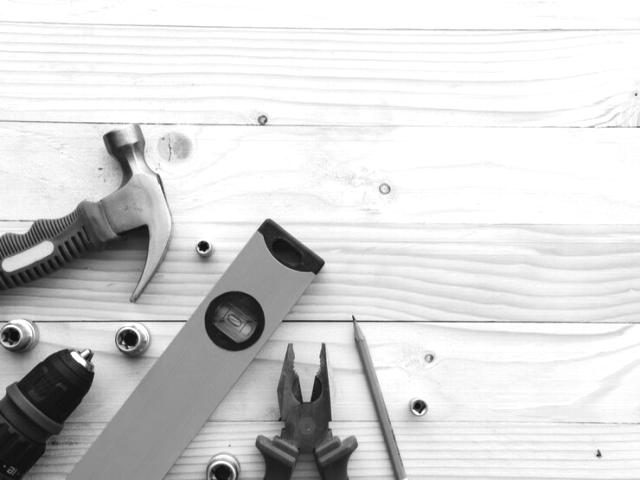Drill: (0, 349, 94, 479)
Hammer: (0, 124, 171, 302)
Pliers: (256, 344, 358, 479)
